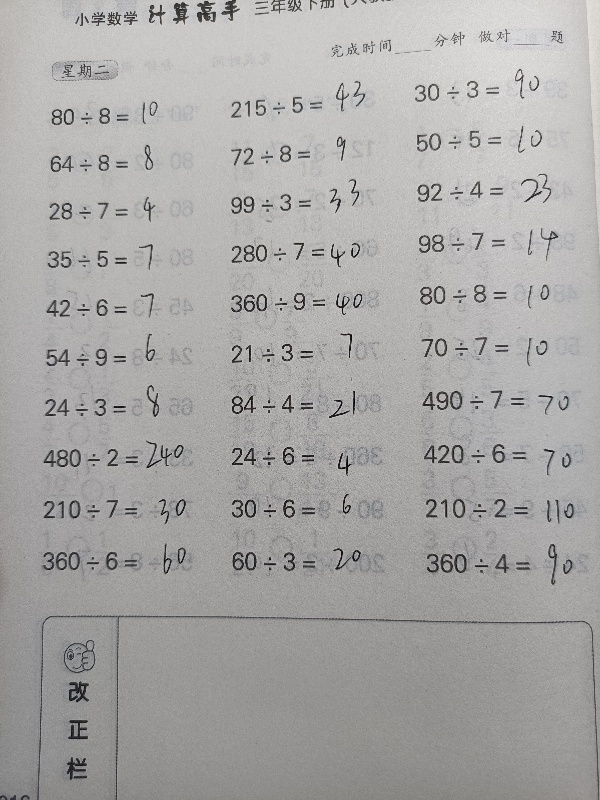equation: (35, 433, 215, 476), (39, 331, 218, 374), (37, 382, 217, 424), (222, 328, 402, 369), (223, 235, 403, 276), (222, 284, 402, 322), (418, 546, 598, 581), (224, 544, 404, 579), (34, 543, 214, 578), (417, 491, 597, 526), (223, 491, 403, 526), (223, 438, 403, 473), (415, 436, 595, 471), (222, 386, 402, 421), (414, 383, 594, 418), (410, 276, 590, 311), (34, 492, 214, 526), (413, 329, 593, 363), (407, 123, 587, 157), (406, 73, 586, 107), (37, 291, 217, 324), (40, 243, 220, 276), (409, 225, 589, 258), (41, 195, 221, 228), (222, 186, 402, 219), (408, 174, 588, 207), (221, 138, 401, 171), (222, 90, 402, 123), (44, 145, 171, 180), (44, 94, 167, 129)
